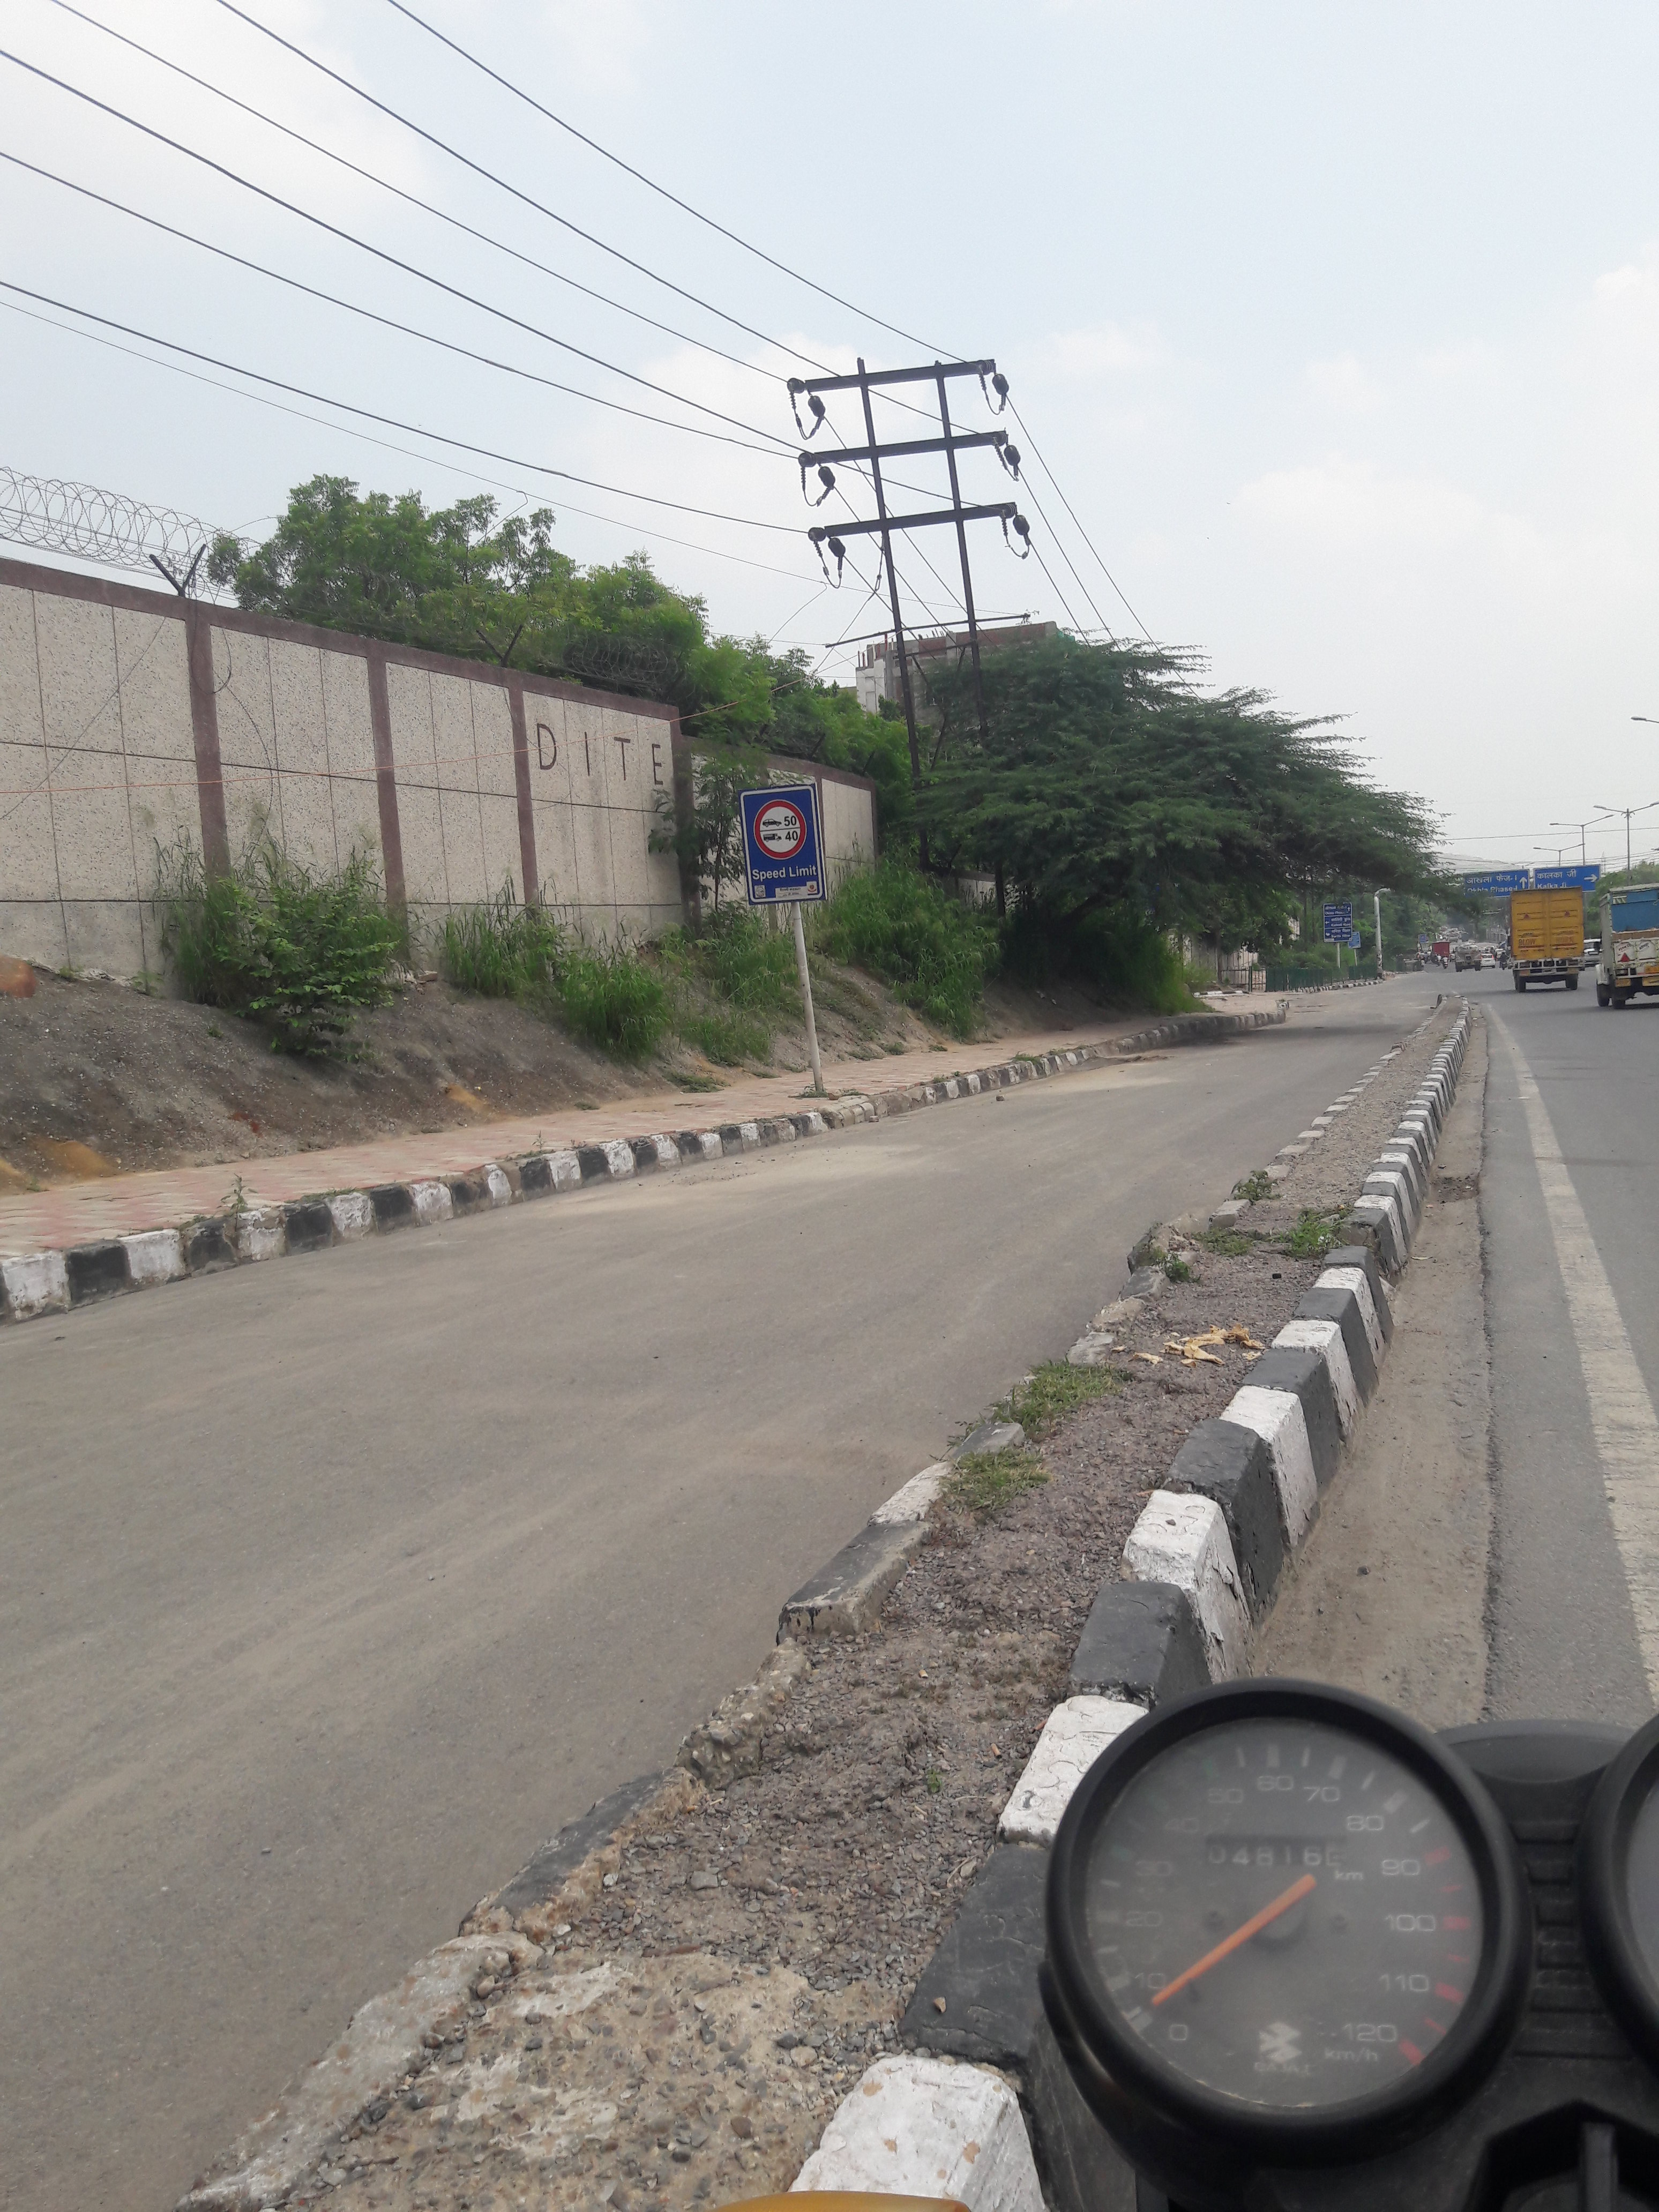traffic_sign: (741, 784, 829, 906)
